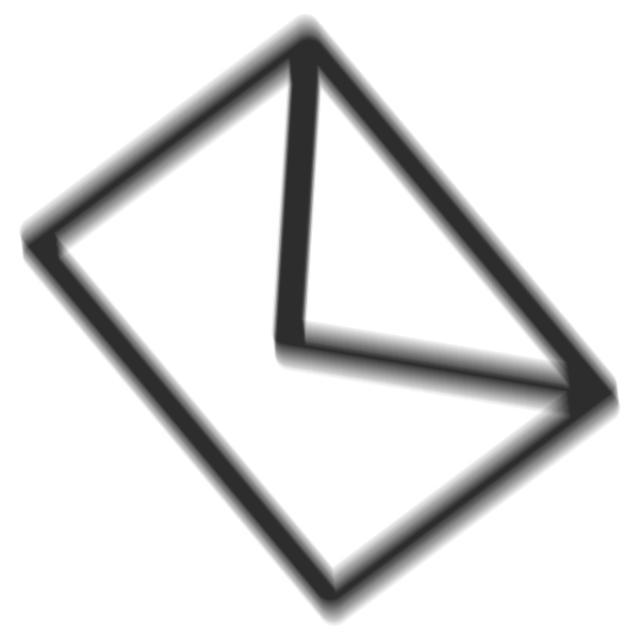letter: (10, 6, 634, 634)
